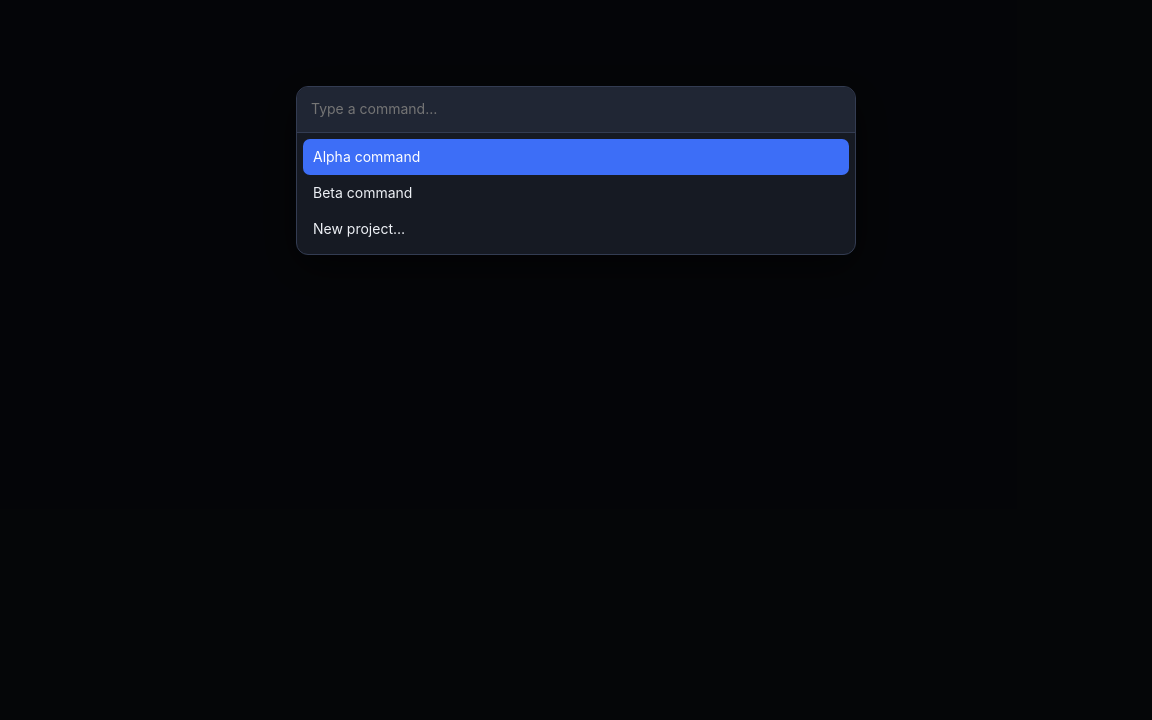
Test case: <CommandPalette> filtering › filters commands by label case-insensitively
Type "ALPHA" into the field.
click(576, 110); type("ALPHA")  # box left=297, top=87, right=855, bottom=133
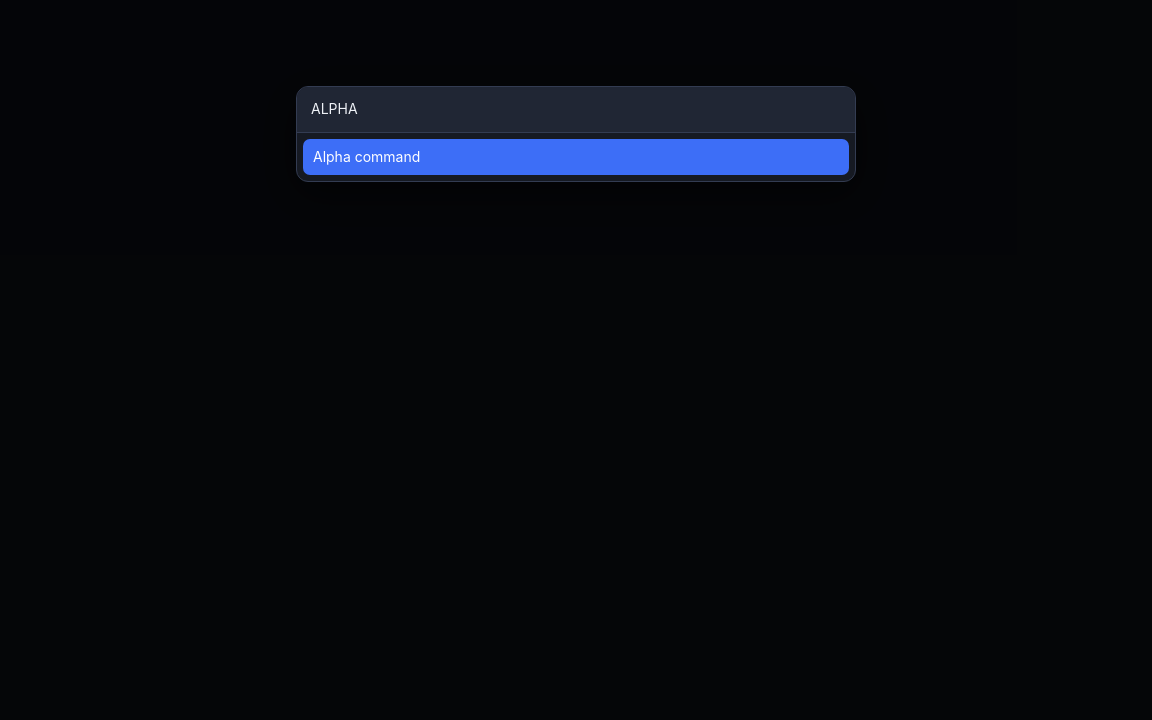
Expected: the option "Alpha command" is shown, left=303, top=139, right=849, bottom=175
Expected: the button "Beta command" is gone
